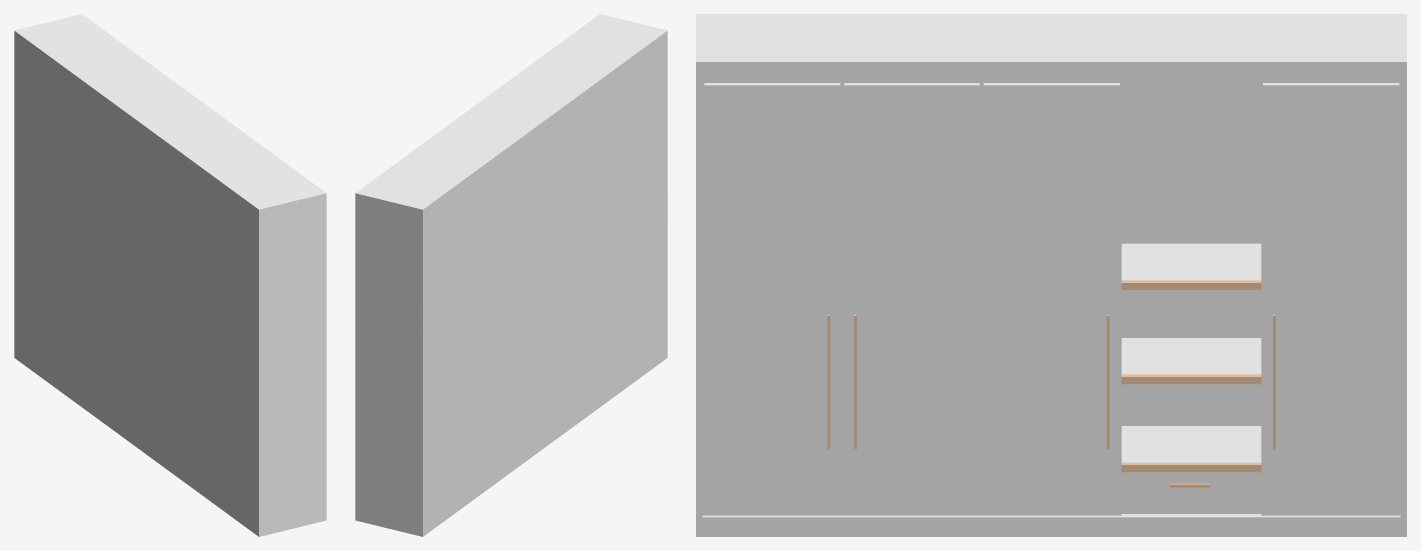
The picture shows the model from 3 angles, left to right: view 1: azimuth 30°, elevation 25°; view 2: azimuth 150°, elevation 25°; view 3: azimuth 270°, elevation 25°; orthographic projection. The views are drawn at different scales.
Visible parts, largest first — view 1: SM_H_Residential_Bedroom_Cabinet_03; view 2: SM_H_Residential_Bedroom_Cabinet_03; view 3: SM_H_Residential_Bedroom_Cabinet_03.
Boxes of the visible parts, box(x1,y1,x2,y2) form: SM_H_Residential_Bedroom_Cabinet_03: box(14, 14, 326, 536); SM_H_Residential_Bedroom_Cabinet_03: box(355, 14, 667, 536); SM_H_Residential_Bedroom_Cabinet_03: box(696, 14, 1406, 536).
Bounding box in the file's own units: 173 × 28.64 × 127.
